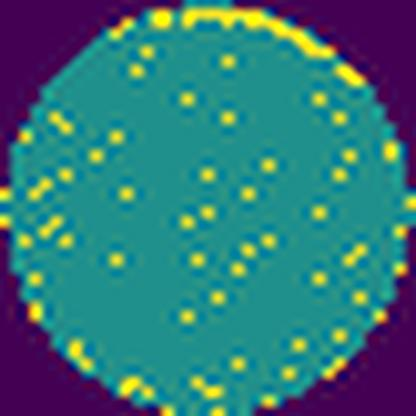Edge-Loc: (181, 0, 336, 57), (338, 58, 372, 96), (148, 3, 176, 31)
